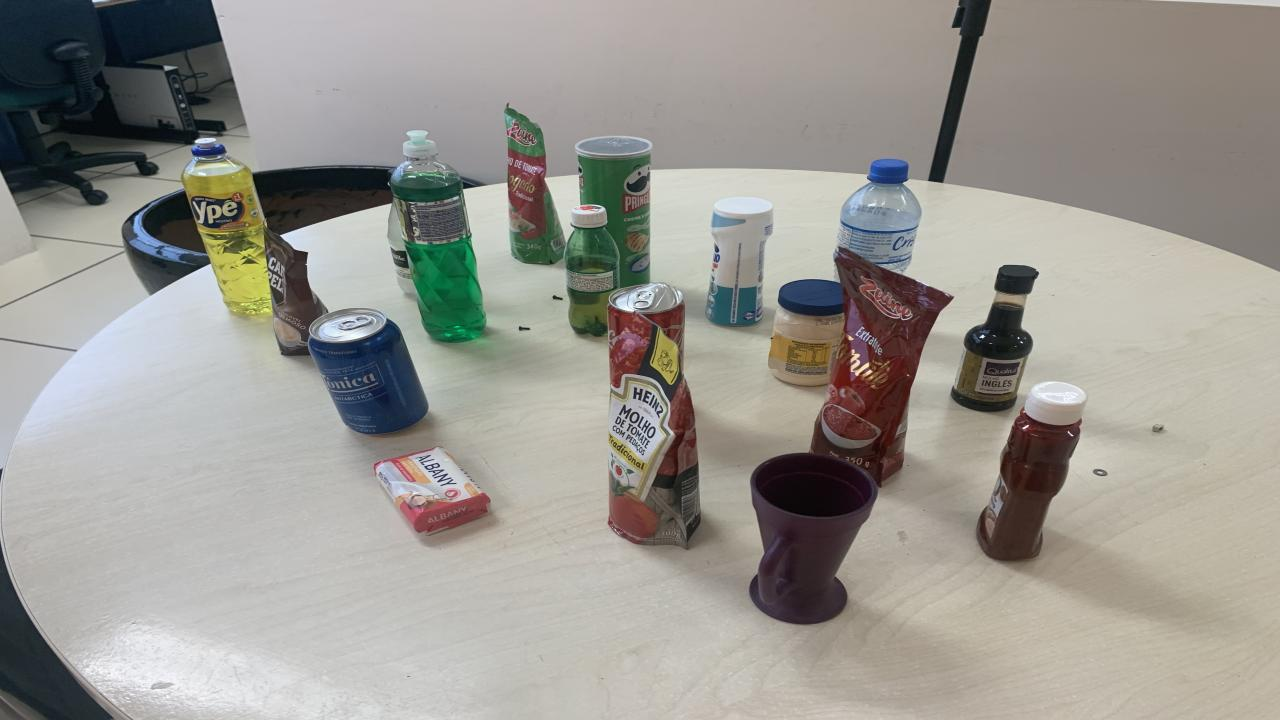Cleaner-Cleanup_Items: (705, 197, 772, 326)
Coffee-Pantry_Items: (265, 227, 328, 356)
Coke-Drinks: (608, 283, 685, 360)
Detergent-Cleanup_Items: (390, 131, 485, 343), (182, 139, 272, 315)
English_Sauce-Pantry_Items: (950, 264, 1038, 411)
Guarana-Drinks: (565, 204, 620, 336)
Ketchup-Pantry_Items: (978, 382, 1085, 561)
Mayonnaise-Pantry_Items: (768, 279, 845, 386)
Pringles-Snacks: (575, 137, 652, 285)
Soap-Cleanup_Items: (375, 446, 490, 534)
Soda-Drinks: (388, 204, 418, 296)
Tomato_Sauce-Pantry_Items: (810, 249, 952, 484), (608, 315, 700, 548), (505, 107, 565, 264)
Tonic-Drinks: (308, 308, 428, 433)
Water_Bottle-Drinks: (838, 159, 922, 274)
